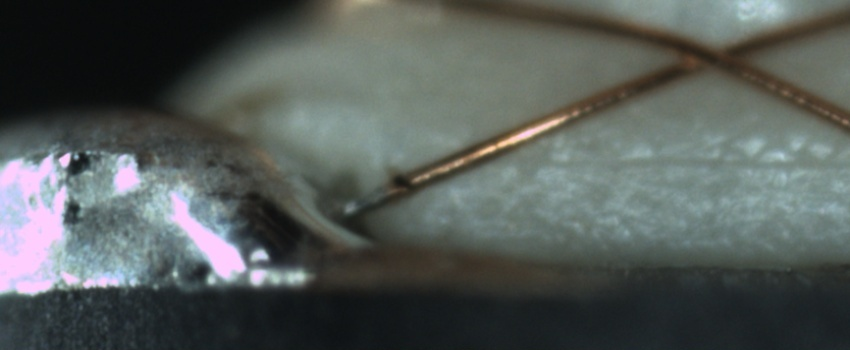CL: (667, 28, 757, 82)
DL: (460, 128, 850, 195)
TS: (336, 185, 387, 221)
